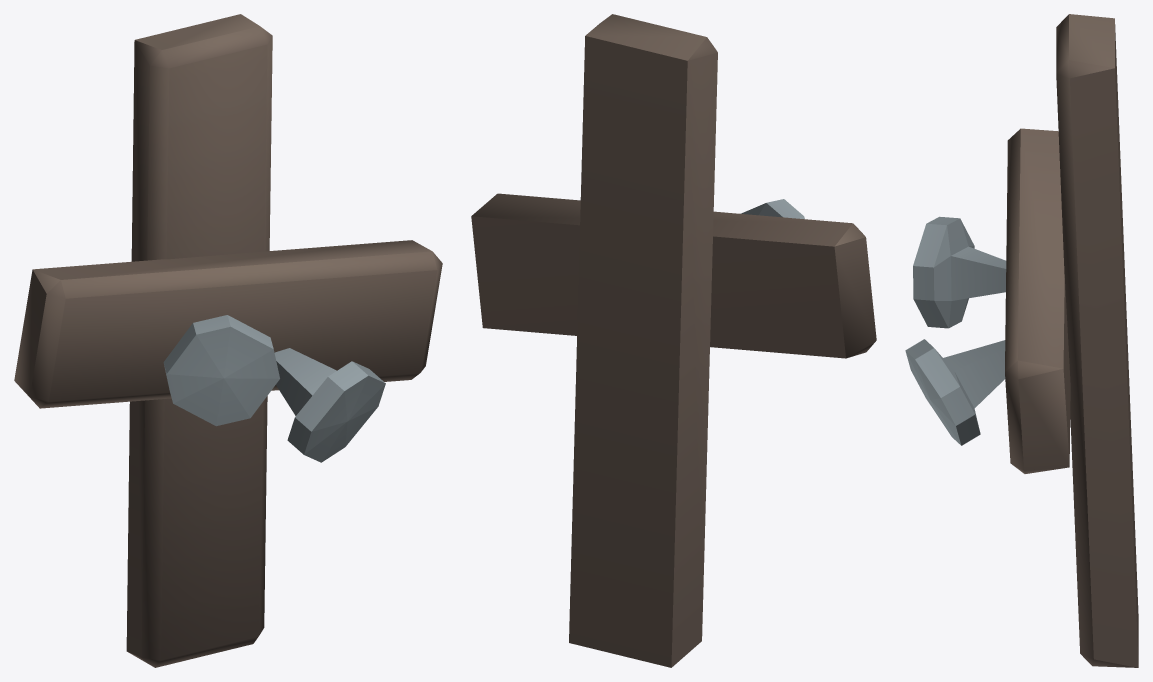
Rendered from gravemarker_B.glb.
The picture shows the model from 3 angles, left to right: view 1: azimuth 30°, elevation 25°; view 2: azimuth 150°, elevation 25°; view 3: azimuth 270°, elevation 25°; orthographic projection. The views are drawn at different scales.
Visible parts, largest first — view 1: gravemarker_B; view 2: gravemarker_B; view 3: gravemarker_B.
Part boxes in pixels (<box>): gravemarker_B: <box>14,14,442,667</box>; gravemarker_B: <box>471,14,876,667</box>; gravemarker_B: <box>905,14,1138,667</box>.
Size of the model in its own units: 0.8029 by 1.18 by 0.4132.
Materials: 1 (1 with a texture image).
